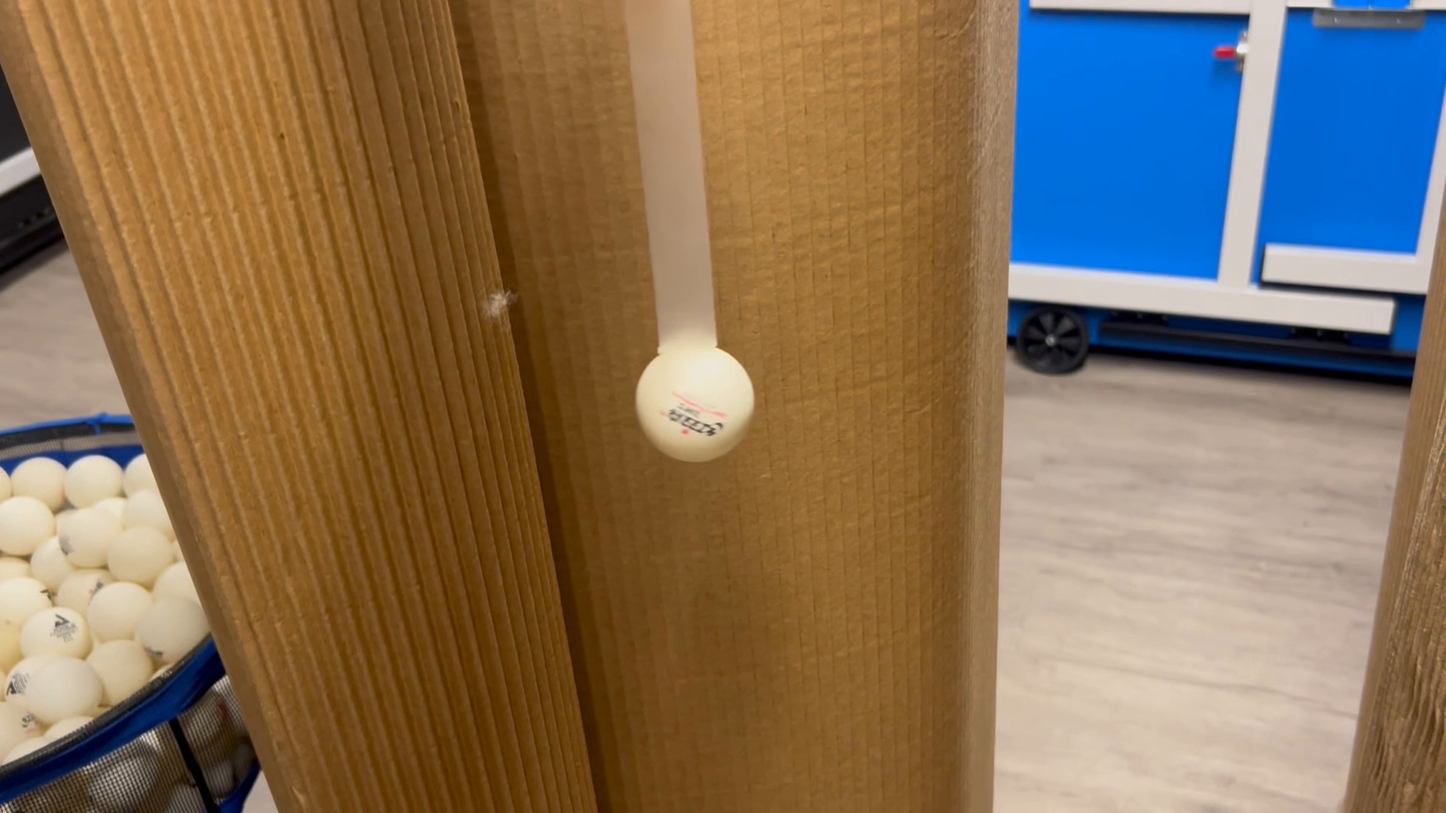Ball: (638, 353, 769, 467)
